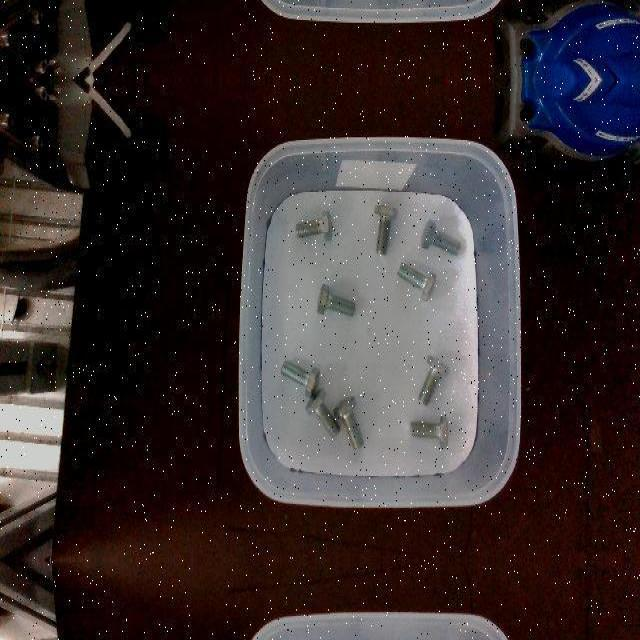screw: (305, 388, 341, 438), (418, 353, 451, 407), (332, 395, 364, 449), (397, 262, 436, 302), (420, 219, 461, 257), (280, 358, 318, 396), (317, 283, 356, 317), (410, 415, 449, 449), (374, 202, 398, 254), (295, 210, 333, 242)
